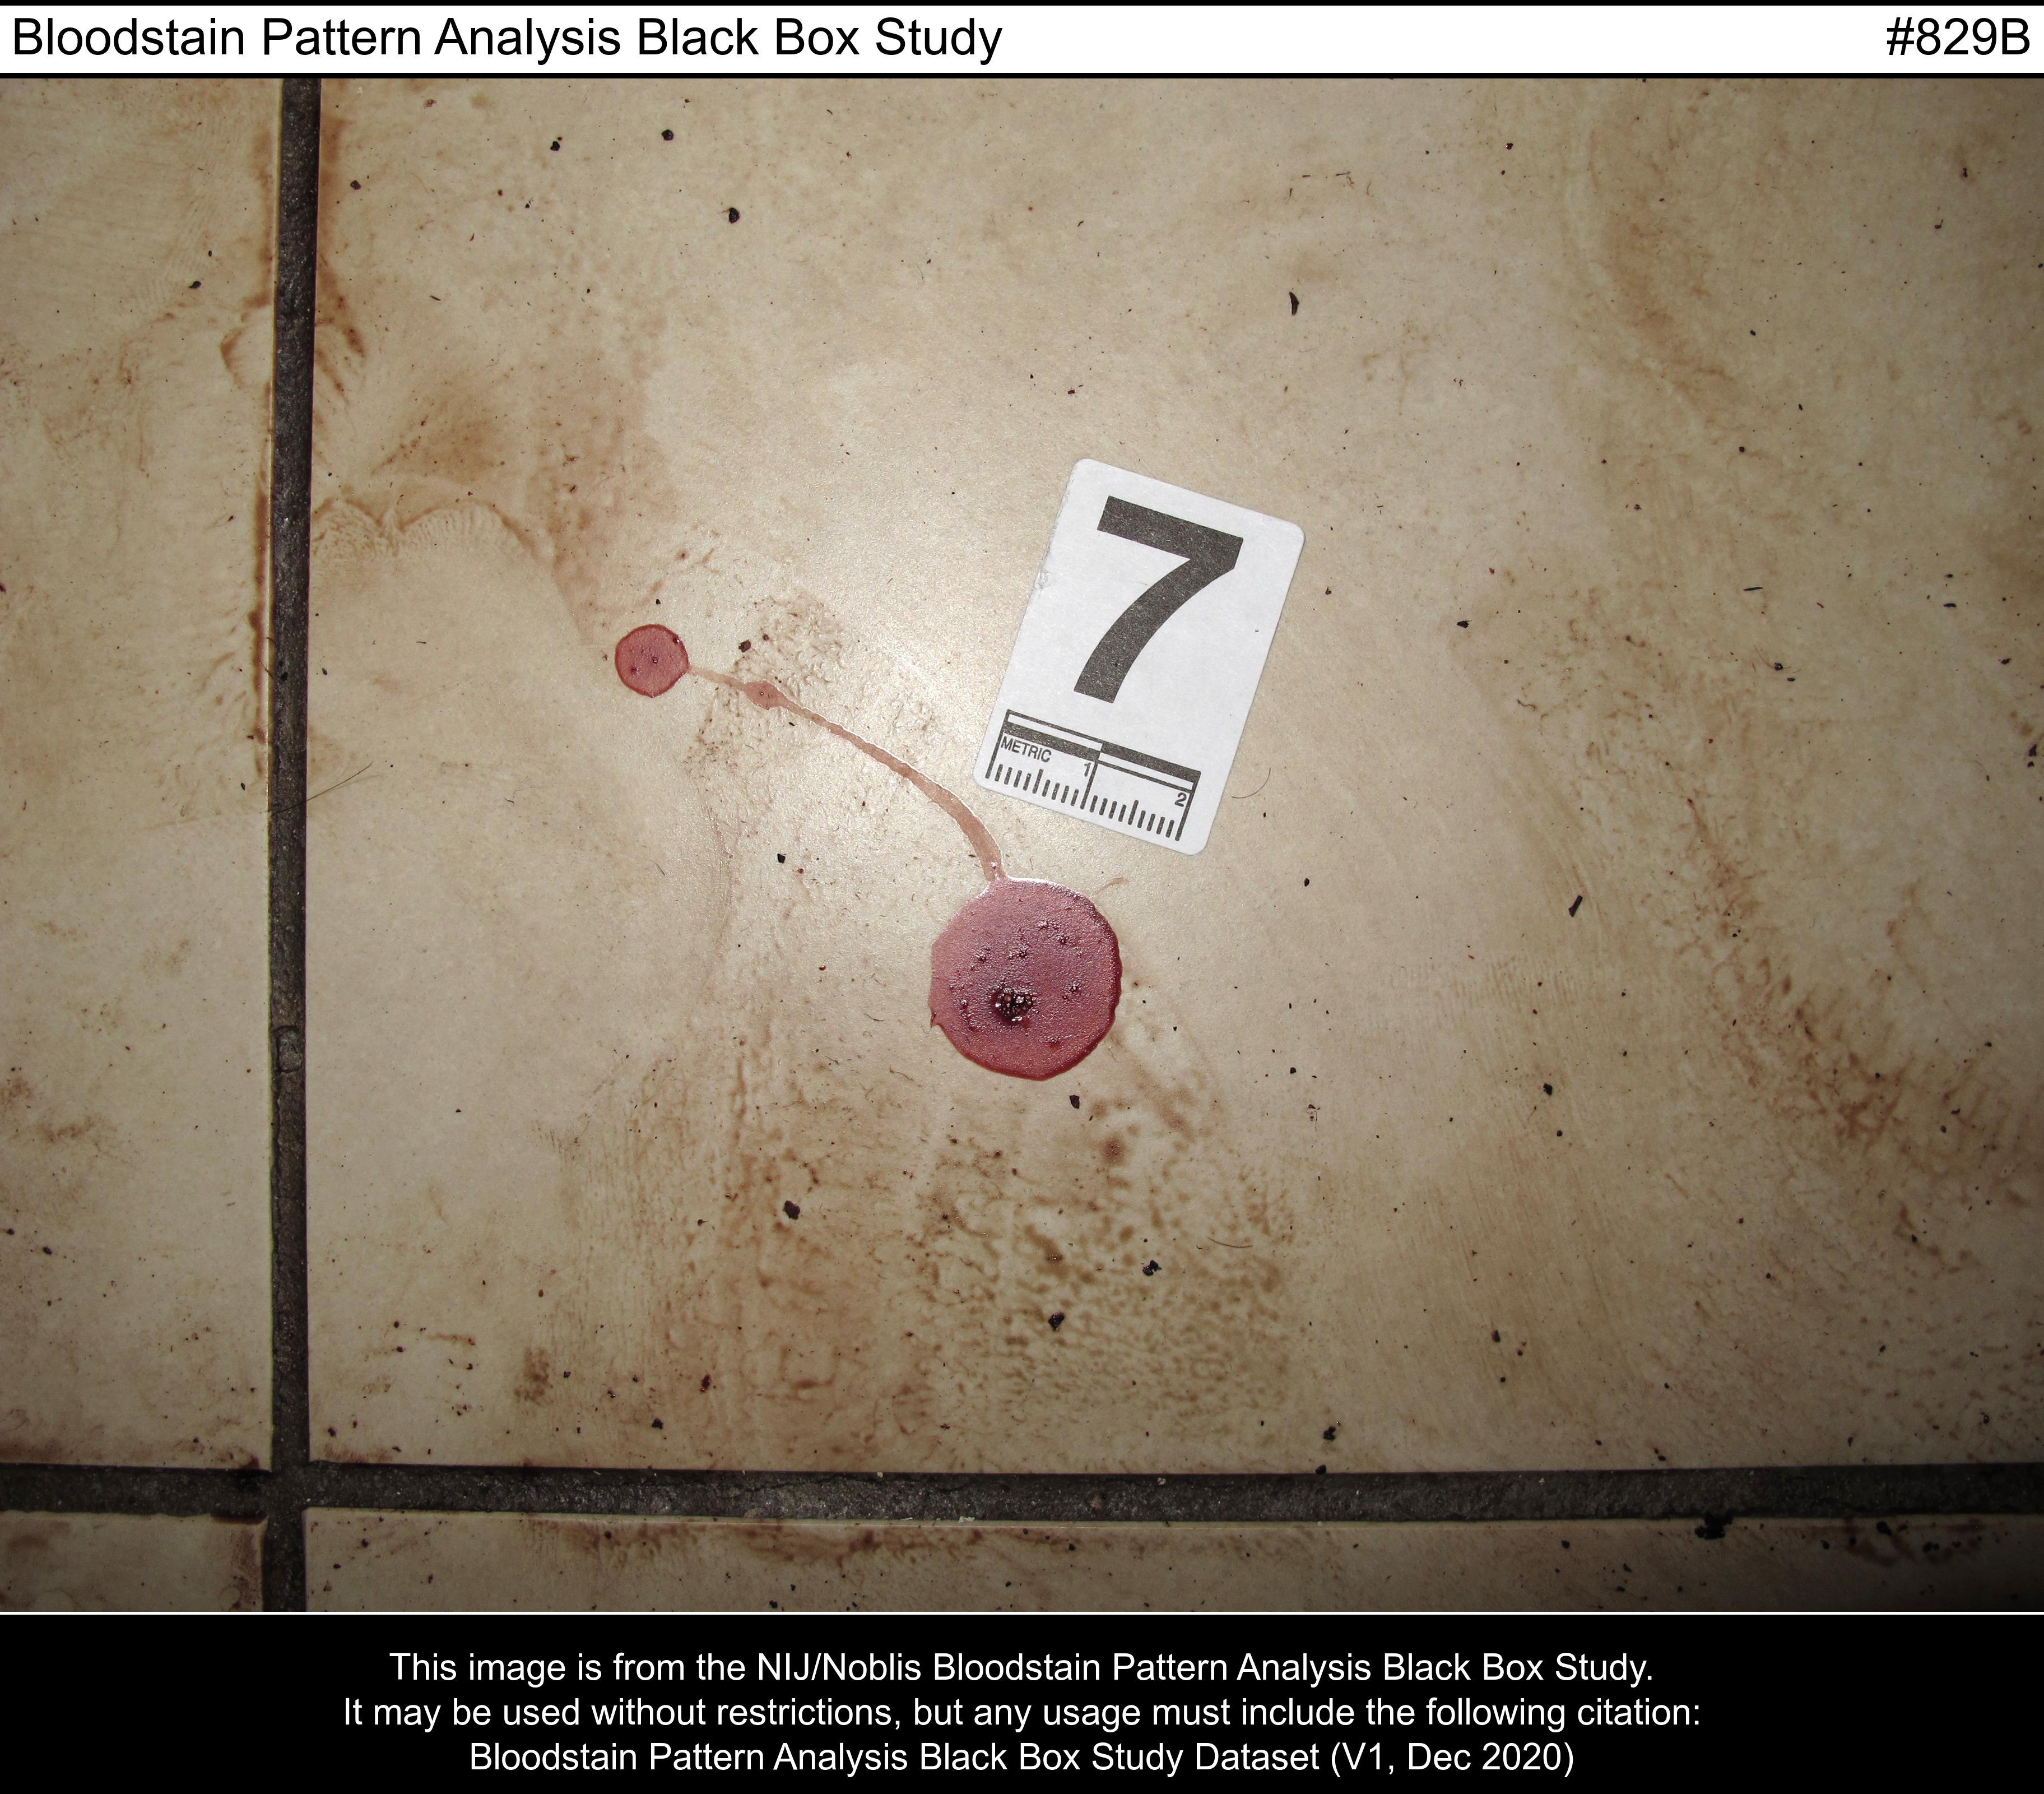Passive: (3, 71, 2042, 1481)
